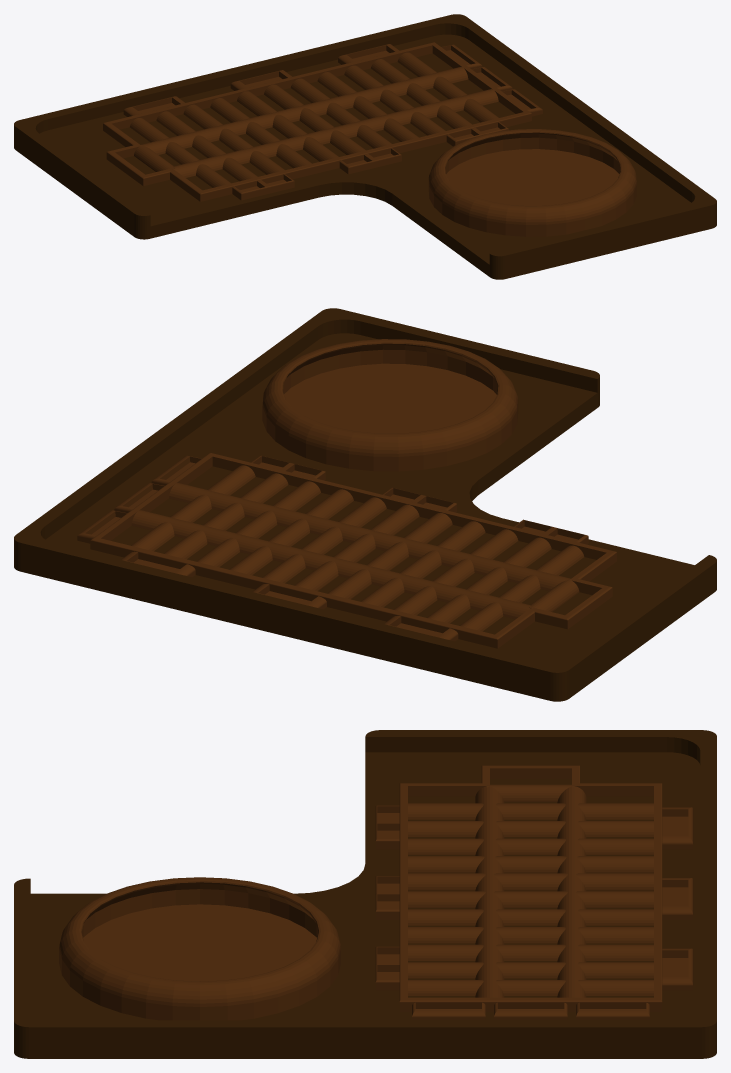
File: titble_table.glb
3 renders of one model, top to bottom at view 1: azimuth 30°, elevation 25°; view 2: azimuth 150°, elevation 25°; view 3: azimuth 270°, elevation 25°, orthographic. The views are drawn at different scales.
Visible parts, largest first — view 1: tableu; view 2: tableu; view 3: tableu.
Boxes of the visible parts, bbox=[...] form: tableu: bbox=[14, 14, 716, 279]; tableu: bbox=[14, 308, 716, 701]; tableu: bbox=[14, 730, 716, 1058].
Size of the model in its own units: 4.25 by 0.3706 by 4.25.
